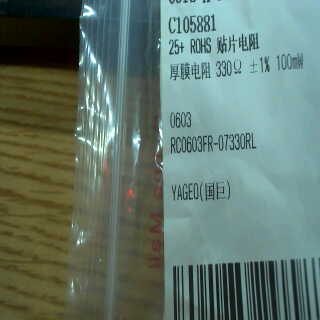330R: (215, 58, 245, 82)
